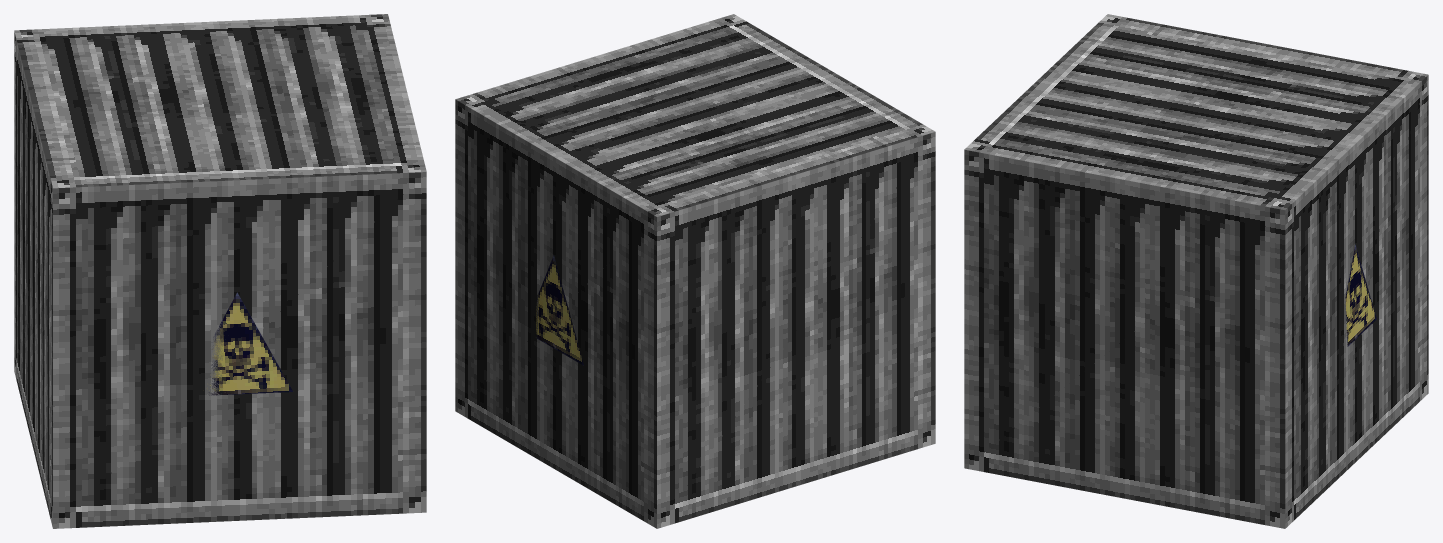
The model's file is primary_054.glb.
3 renders of one model, left to right at view 1: azimuth 30°, elevation 25°; view 2: azimuth 150°, elevation 25°; view 3: azimuth 270°, elevation 25°, orthographic. The views are drawn at different scales.
Parts seen in each view (by area): view 1: Object; view 2: Object; view 3: Object.
Part boxes in pixels (x1=…): Object: x1=14, y1=14, x2=426, y2=528; Object: x1=455, y1=14, x2=935, y2=528; Object: x1=964, y1=14, x2=1428, y2=528.
Bounding box in the file's own units: 1.57 × 1.18 × 1.57.
Materials: 2 (2 with a texture image).
